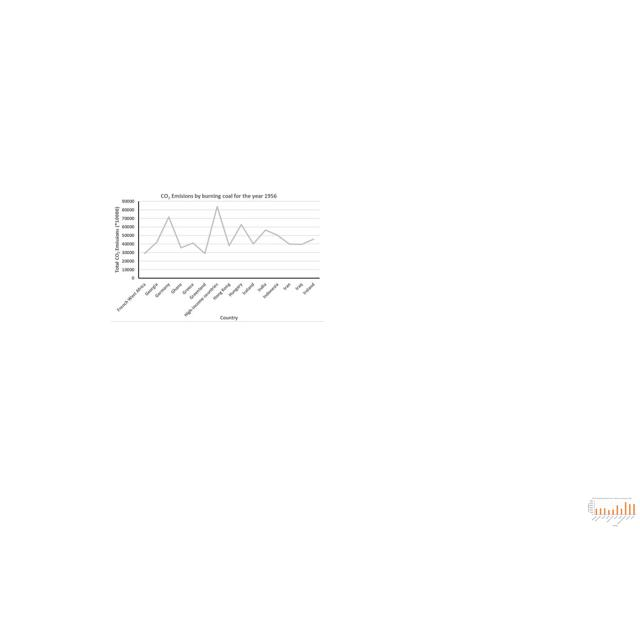Graph: (111, 190, 324, 322), (587, 497, 637, 527)
